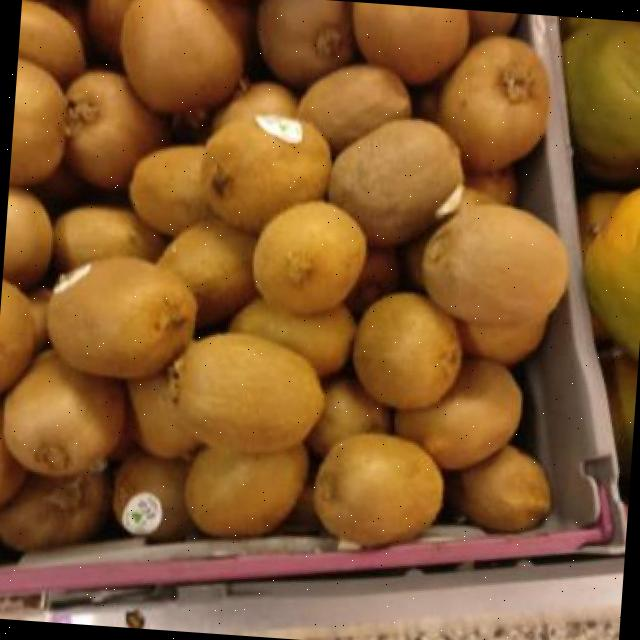kiwi: (47, 257, 197, 378), (174, 332, 324, 452), (420, 203, 567, 323), (329, 118, 463, 246), (2, 350, 125, 477), (201, 115, 329, 231), (313, 432, 443, 546), (440, 35, 547, 171), (120, 0, 243, 112), (395, 360, 521, 469), (352, 292, 462, 409), (253, 201, 366, 314), (67, 71, 165, 189), (184, 444, 307, 537), (158, 219, 256, 327), (298, 66, 411, 150), (231, 298, 354, 375), (353, 2, 469, 83), (0, 473, 107, 550), (258, 0, 351, 86), (461, 445, 551, 531), (129, 145, 211, 234), (9, 58, 66, 185), (54, 208, 164, 269), (113, 455, 190, 540), (128, 370, 200, 458), (308, 383, 389, 455), (18, 0, 85, 83), (2, 187, 52, 288), (456, 319, 545, 364), (0, 279, 33, 391), (216, 84, 297, 129)
